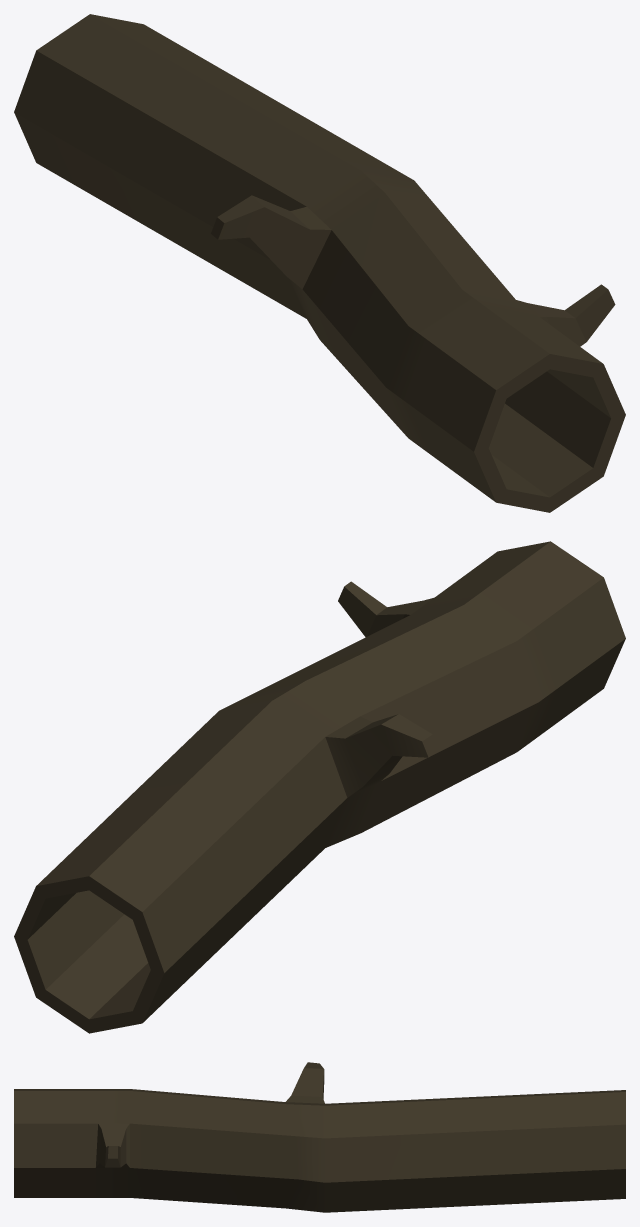
Rendered from stump_hollow_001.fbx.
The picture shows the model from 3 angles, top to bottom: view 1: azimuth 30°, elevation 25°; view 2: azimuth 150°, elevation 25°; view 3: azimuth 270°, elevation 25°; orthographic projection. The views are drawn at different scales.
Visible parts, largest first — view 1: stump_hollow_001; view 2: stump_hollow_001; view 3: stump_hollow_001.
Boxes of the visible parts, left/top/right/bottom form: stump_hollow_001: left=14, top=14, right=625, bottom=512; stump_hollow_001: left=14, top=541, right=625, bottom=1033; stump_hollow_001: left=14, top=1062, right=625, bottom=1212.
Bounding box in the file's own units: 4.35 × 14.18 × 2.72.
